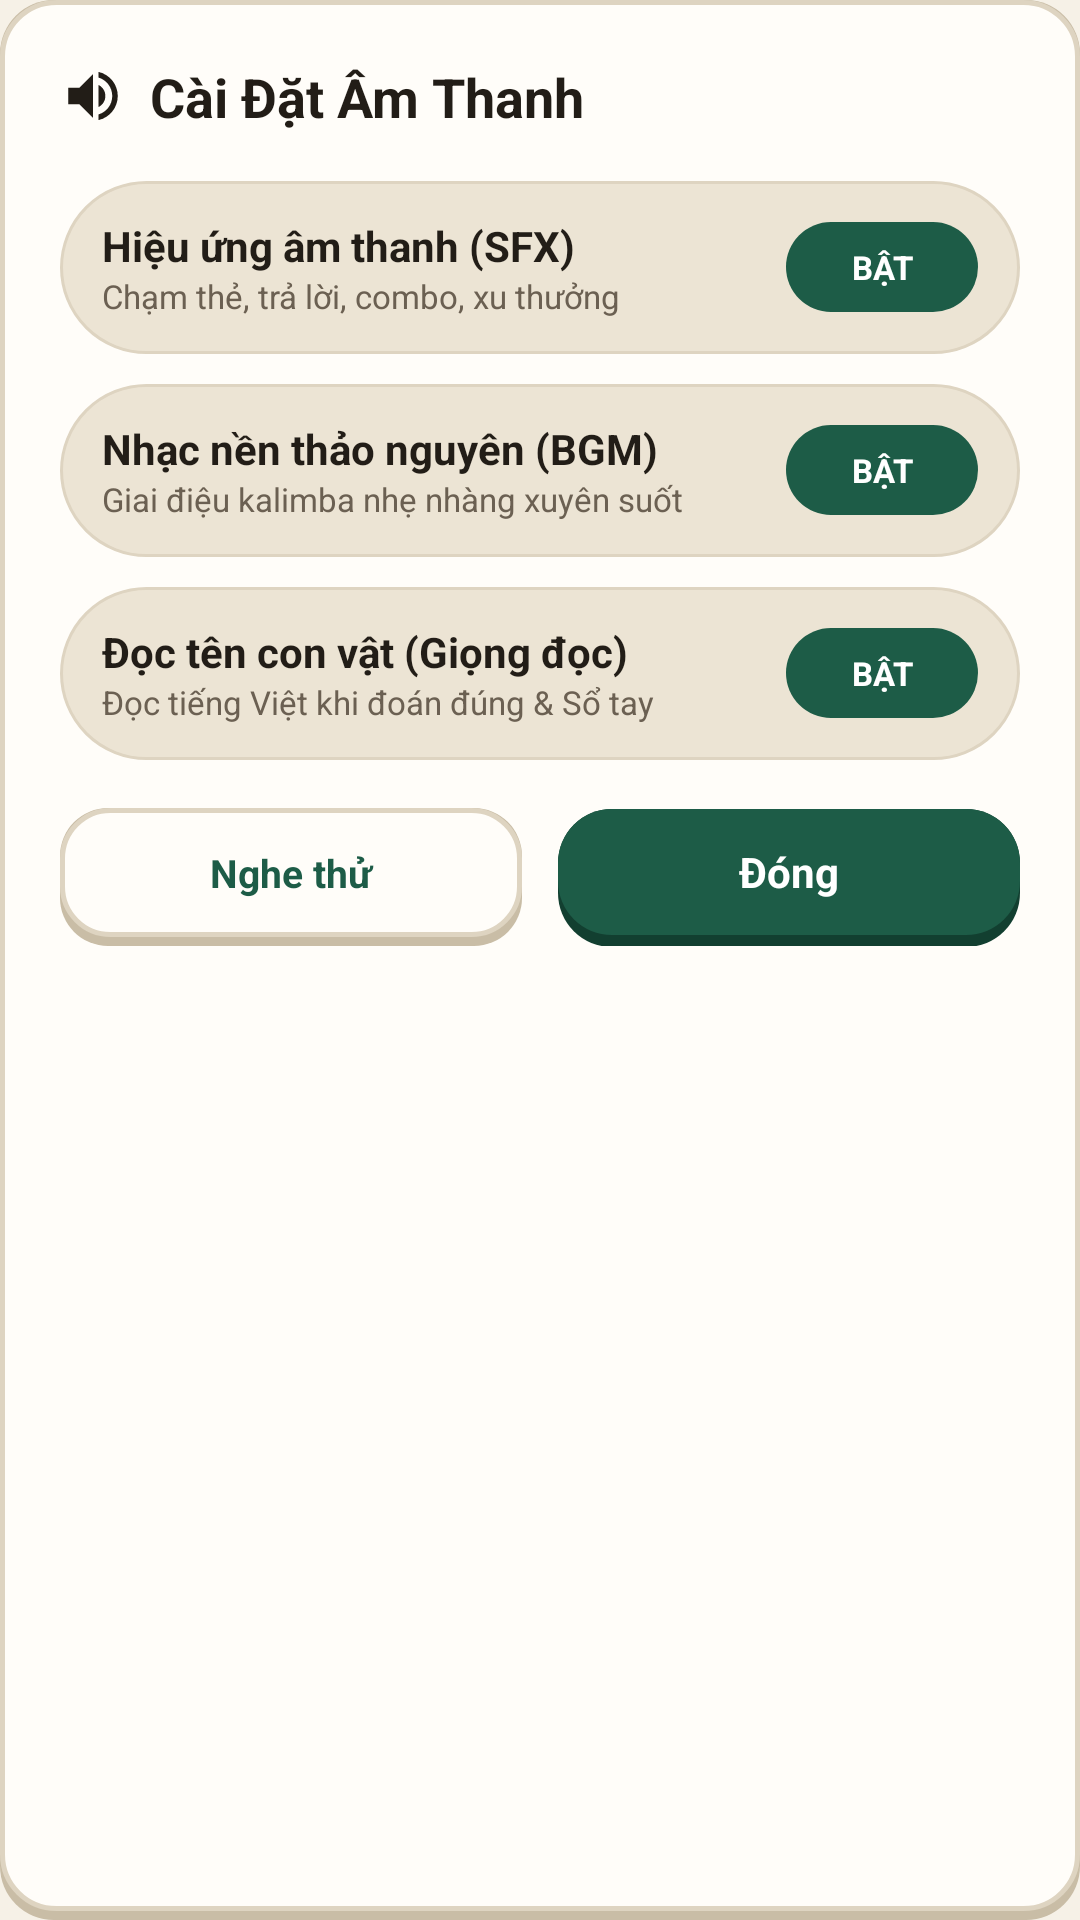

Named icons in this screenshot (1080×1920) and their bounding boxes, [x1,y1,x2,y2]:
sound on: [68,72,118,120]
